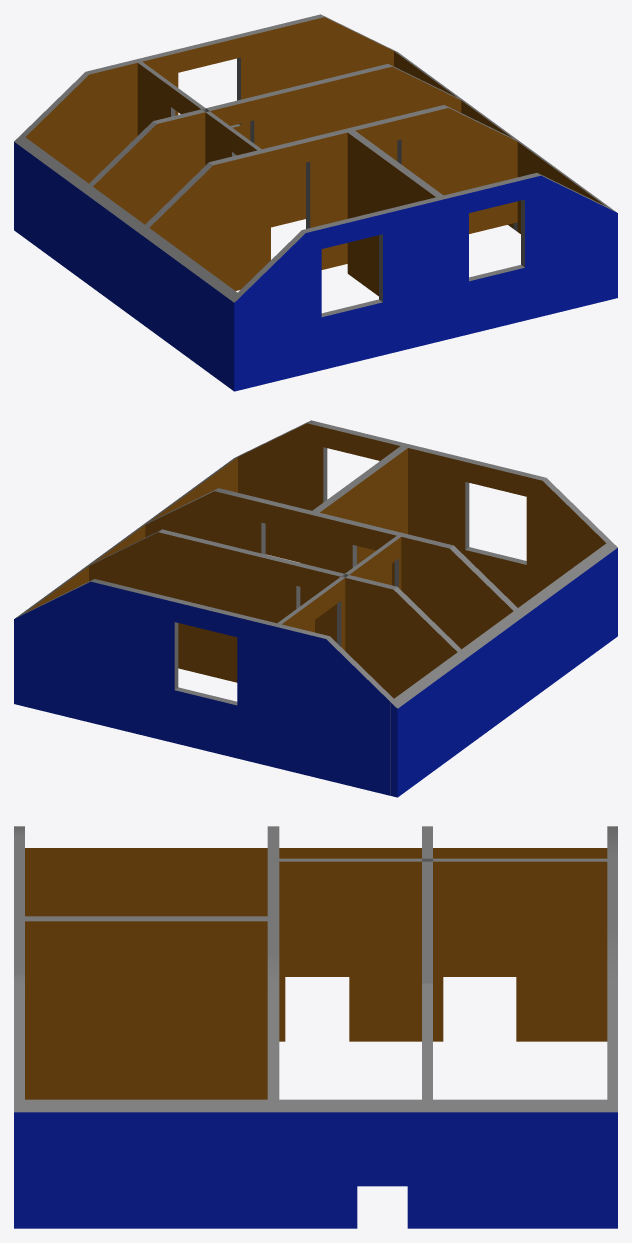
File: WallFloor2.fbx
3 views of the same model, one above another, from view 1: azimuth 30°, elevation 25°; view 2: azimuth 150°, elevation 25°; view 3: azimuth 270°, elevation 25° (orthographic). The views are drawn at different scales.
Parts seen in each view (by area): view 1: Object031; view 2: Object031; view 3: Object031.
Part boxes in pixels (<box>): Object031: <box>14,14,617,391</box>; Object031: <box>14,420,617,797</box>; Object031: <box>14,826,617,1228</box>.
Bounding box in the file's own units: 7.95 × 2.79 × 7.91.
